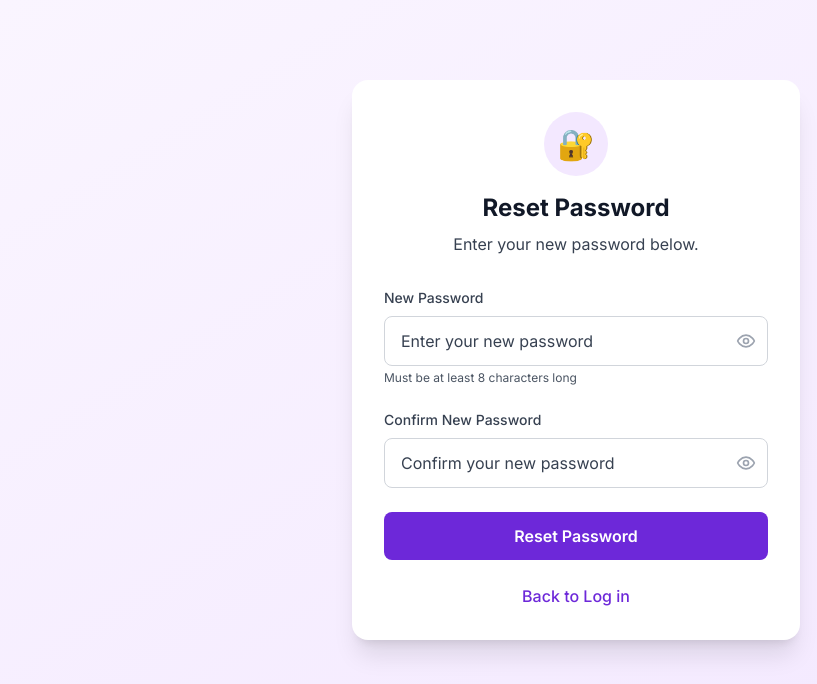
Test: Reset Password Validation › submit short password shows passwordError, no mismatch shown
The width and height of the screenshot is (817, 684).
expect the button with test id "reset-submit" is enabled: met, box x1=384 y1=512 x2=768 y2=560
Type "short" into the password field labelled "New Password" at (576, 341), box x1=384 y1=316 x2=768 y2=366
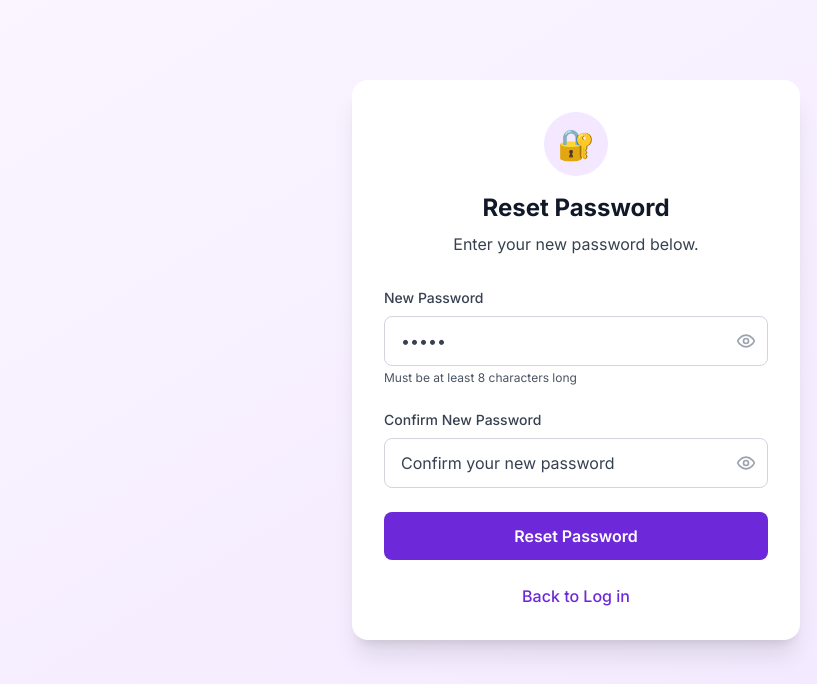
Click the button with test id "reset-submit" at (576, 536), box x1=384 y1=512 x2=768 y2=560
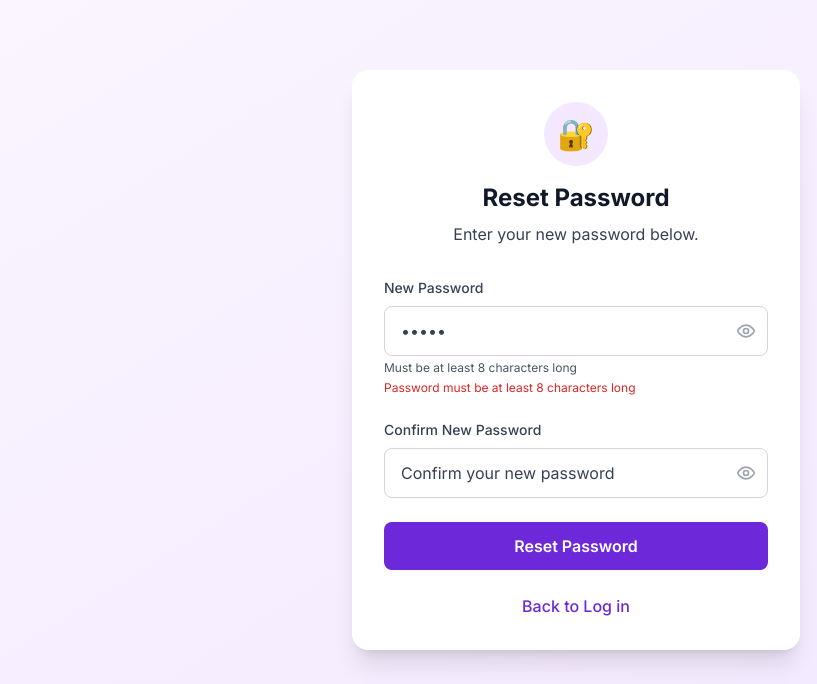
expect the text "Password must be at least 8 characters long" is shown: met, box x1=384 y1=380 x2=636 y2=395
